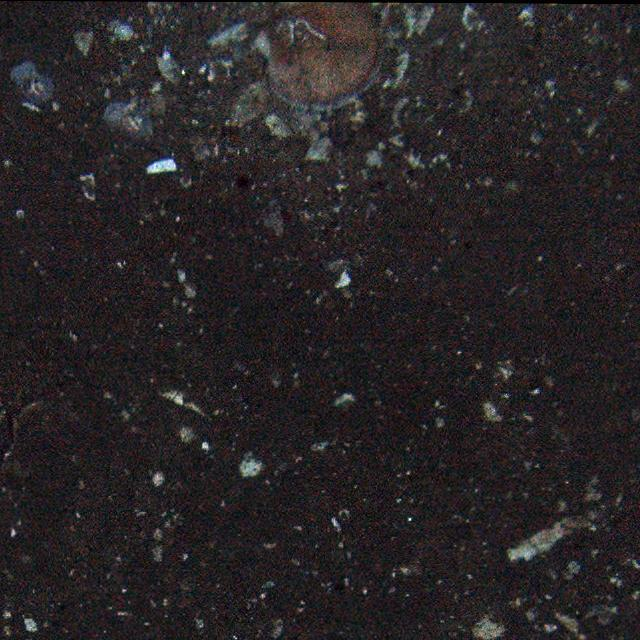scallop: (256, 0, 382, 102)
